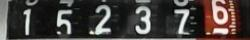digits: (92, 4, 115, 33), (55, 8, 74, 38), (134, 5, 152, 35), (173, 8, 190, 37), (209, 0, 228, 25), (22, 7, 32, 36)
